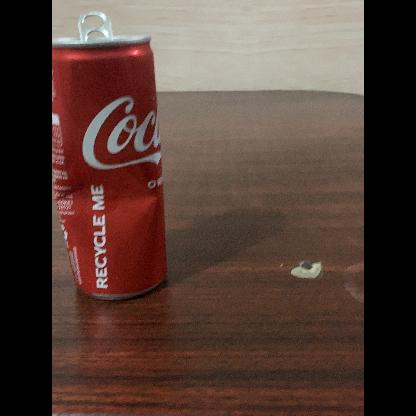Dent_Can: (66, 166, 162, 239), (56, 191, 74, 209)
Lid_Open: (74, 6, 128, 54)
Tin_Can: (52, 4, 184, 304)
